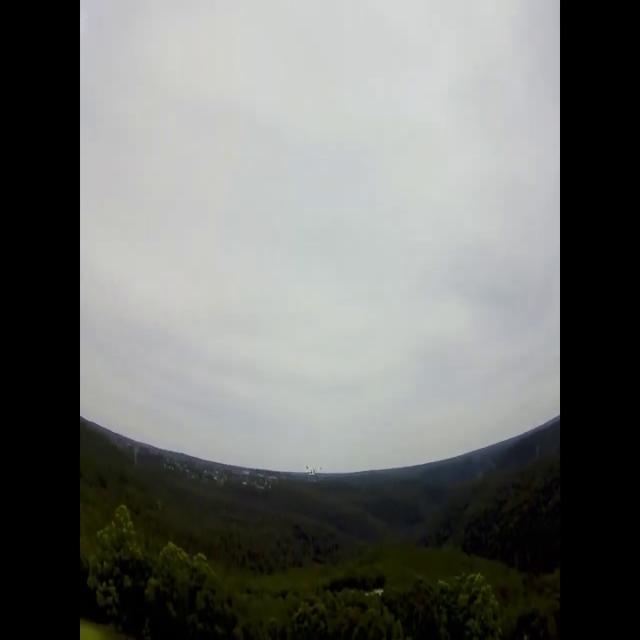iha: (306, 468, 322, 473)
